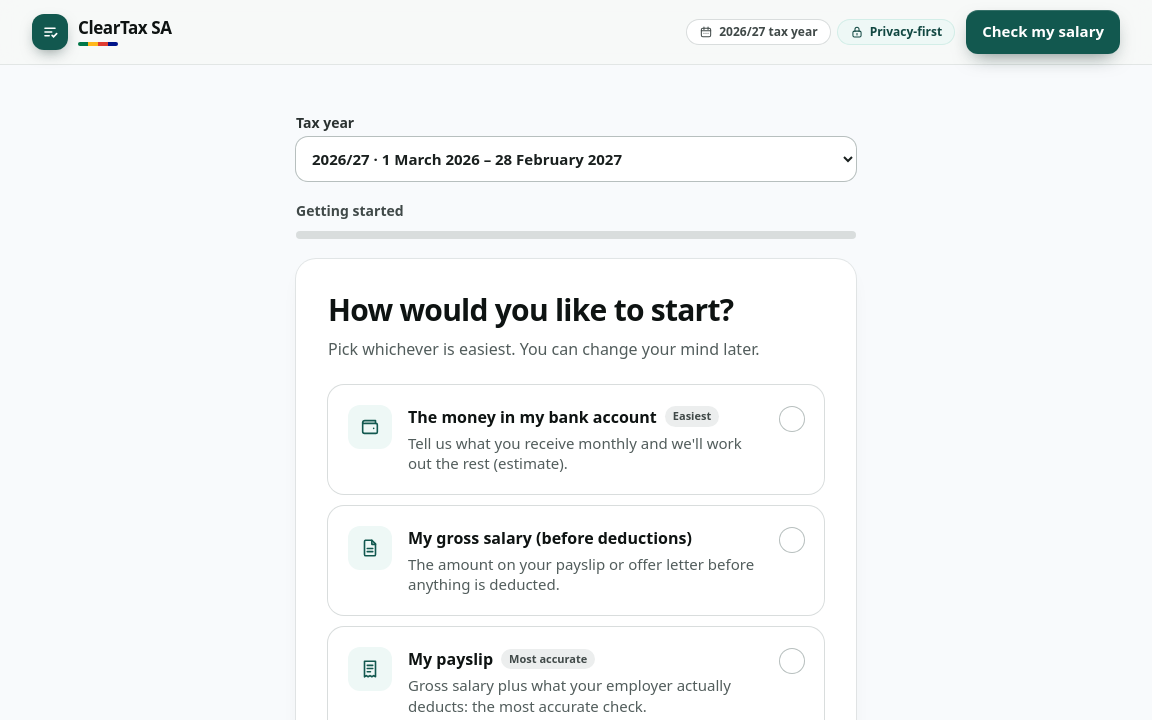
Test case: step 0: how would you like to start? › arrow keys move between the cards (real radio buttons)
This screenshot has width=1152, height=720.
Click the radio button labelled "The money in my bank account".
click(576, 439)  # box [328,384,824,494]
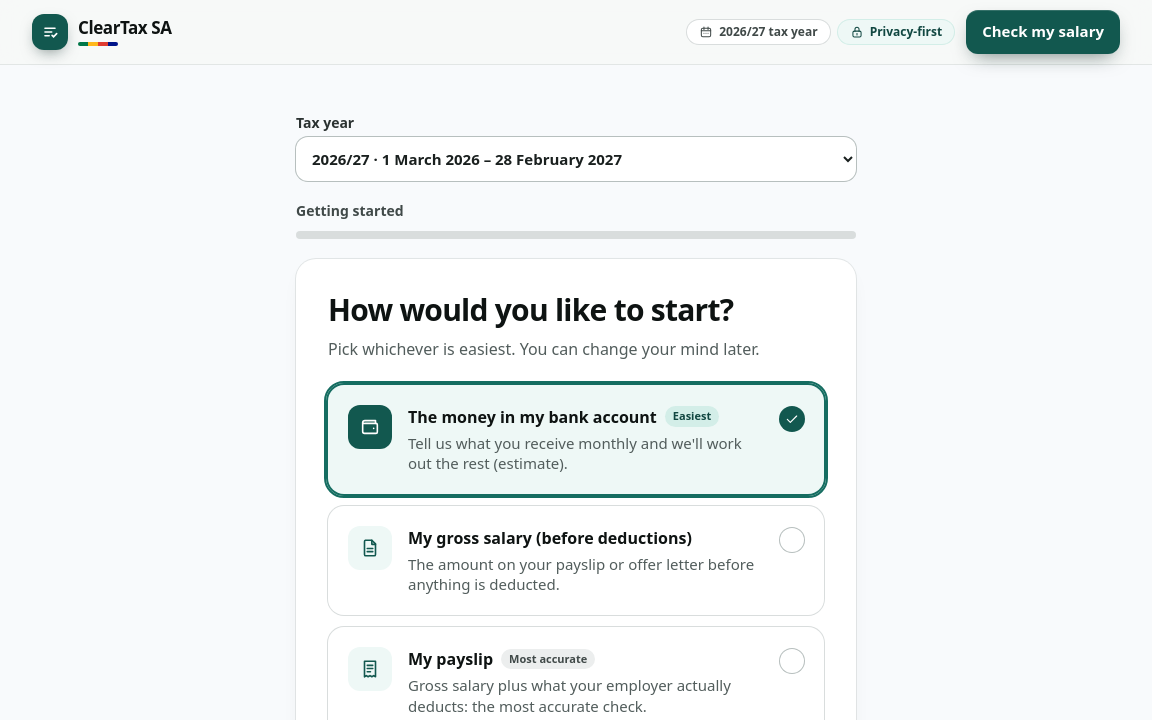
Press Arrowdown
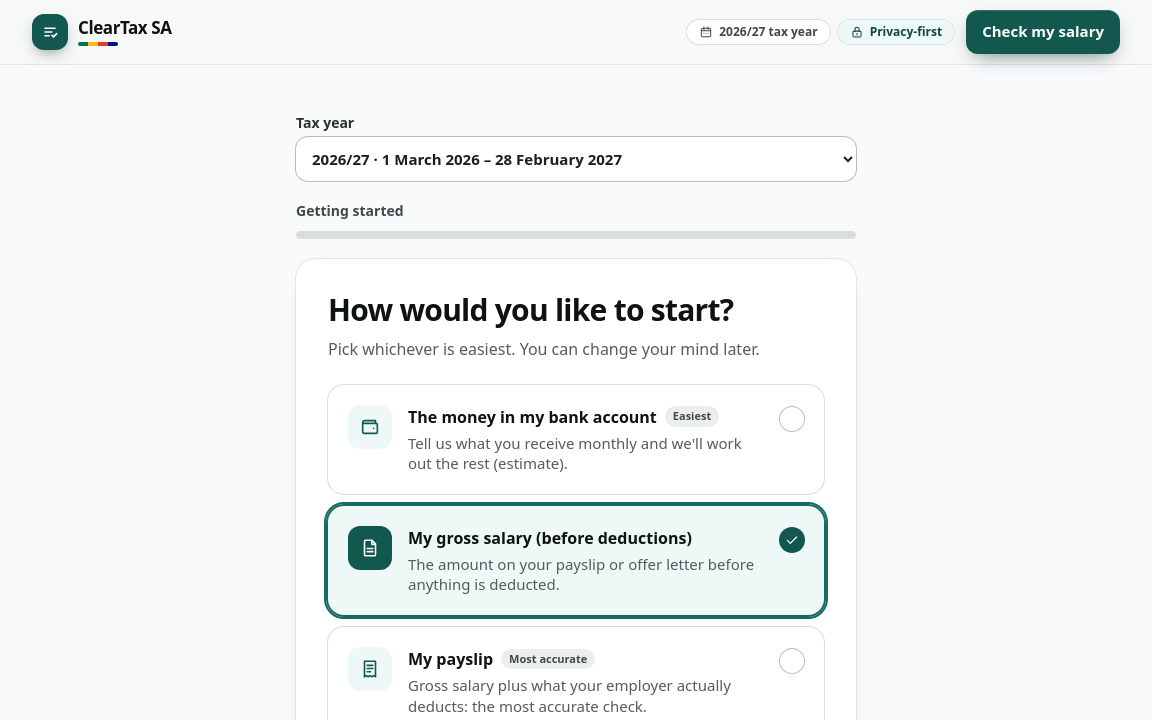
Check: the radio button labelled "My gross salary" is checked, box [328,506,824,615]
